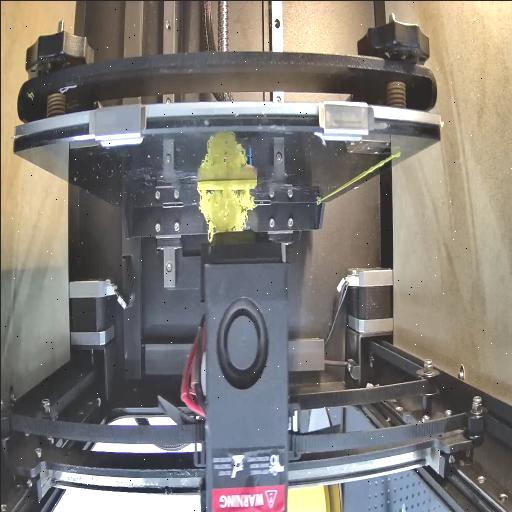spaghetti: (200, 190, 254, 240)
